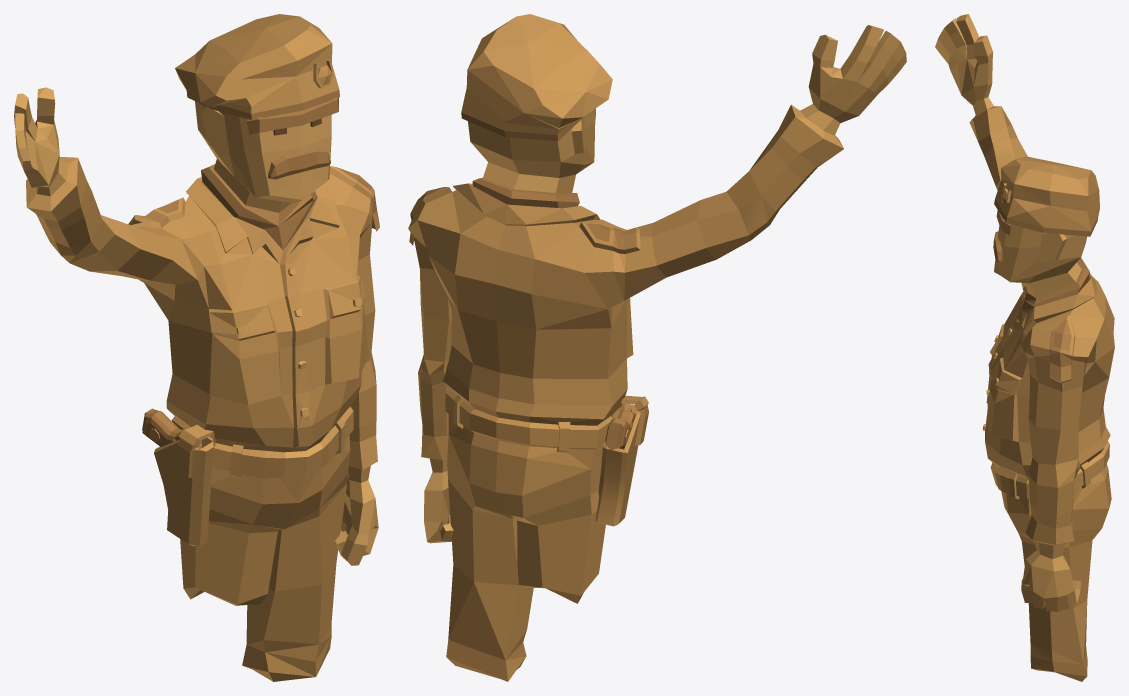
File: SM_Prop_Statue_Broken_01.glb
3 renders of one model, left to right at view 1: azimuth 30°, elevation 25°; view 2: azimuth 150°, elevation 25°; view 3: azimuth 270°, elevation 25°, orthographic. The views are drawn at different scales.
Visible parts, largest first — view 1: SM_Prop_Statue_Broken_01; view 2: SM_Prop_Statue_Broken_01; view 3: SM_Prop_Statue_Broken_01.
Boxes of the visible parts, x1,y1,x2,y2 form: SM_Prop_Statue_Broken_01: (14,14,379,681); SM_Prop_Statue_Broken_01: (408,14,906,681); SM_Prop_Statue_Broken_01: (935,14,1114,681).
Bounding box in the file's own units: 1.79 × 2.74 × 0.8355.
1 material, 1 textured.
